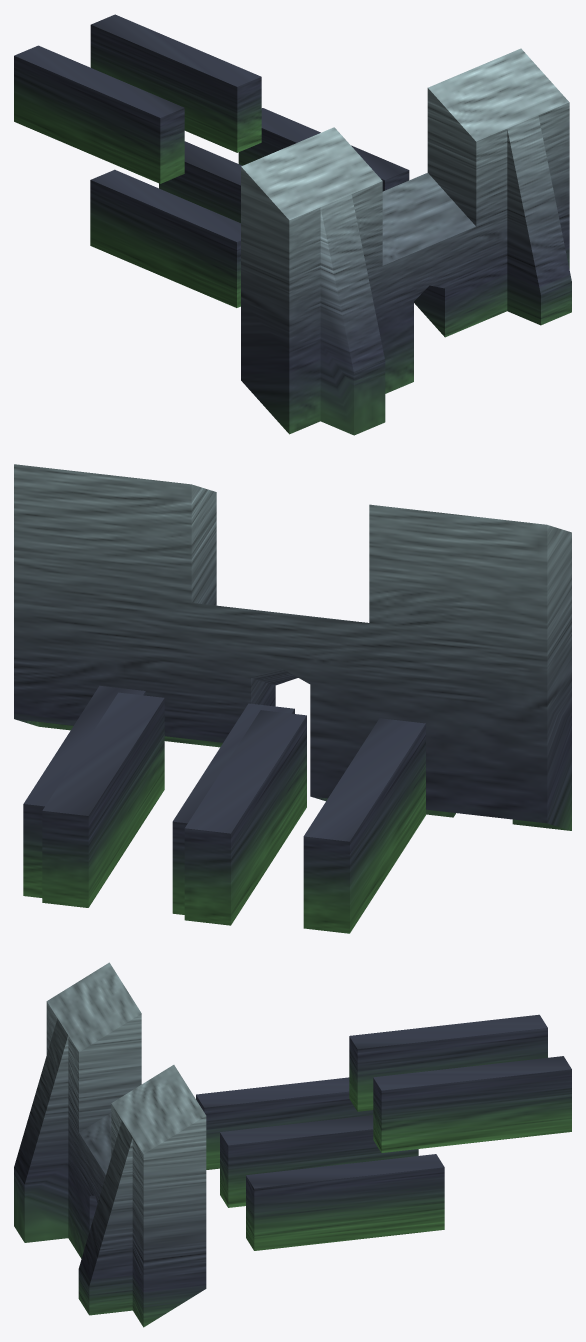
Rendered from Ciudad_piedra04.fbx.
3 renders of one model, top to bottom at view 1: azimuth 30°, elevation 25°; view 2: azimuth 150°, elevation 25°; view 3: azimuth 270°, elevation 25°, orthographic. The views are drawn at different scales.
Parts seen in each view (by area): view 1: Ciudad_piedra04; view 2: Ciudad_piedra04; view 3: Ciudad_piedra04.
Part boxes in pixels (x1=…): Ciudad_piedra04: x1=14, y1=14, x2=571, y2=435; Ciudad_piedra04: x1=14, y1=464, x2=571, y2=933; Ciudad_piedra04: x1=14, y1=962, x2=571, y2=1327.
Bounding box in the file's own units: 52.28 × 35.23 × 75.92.
